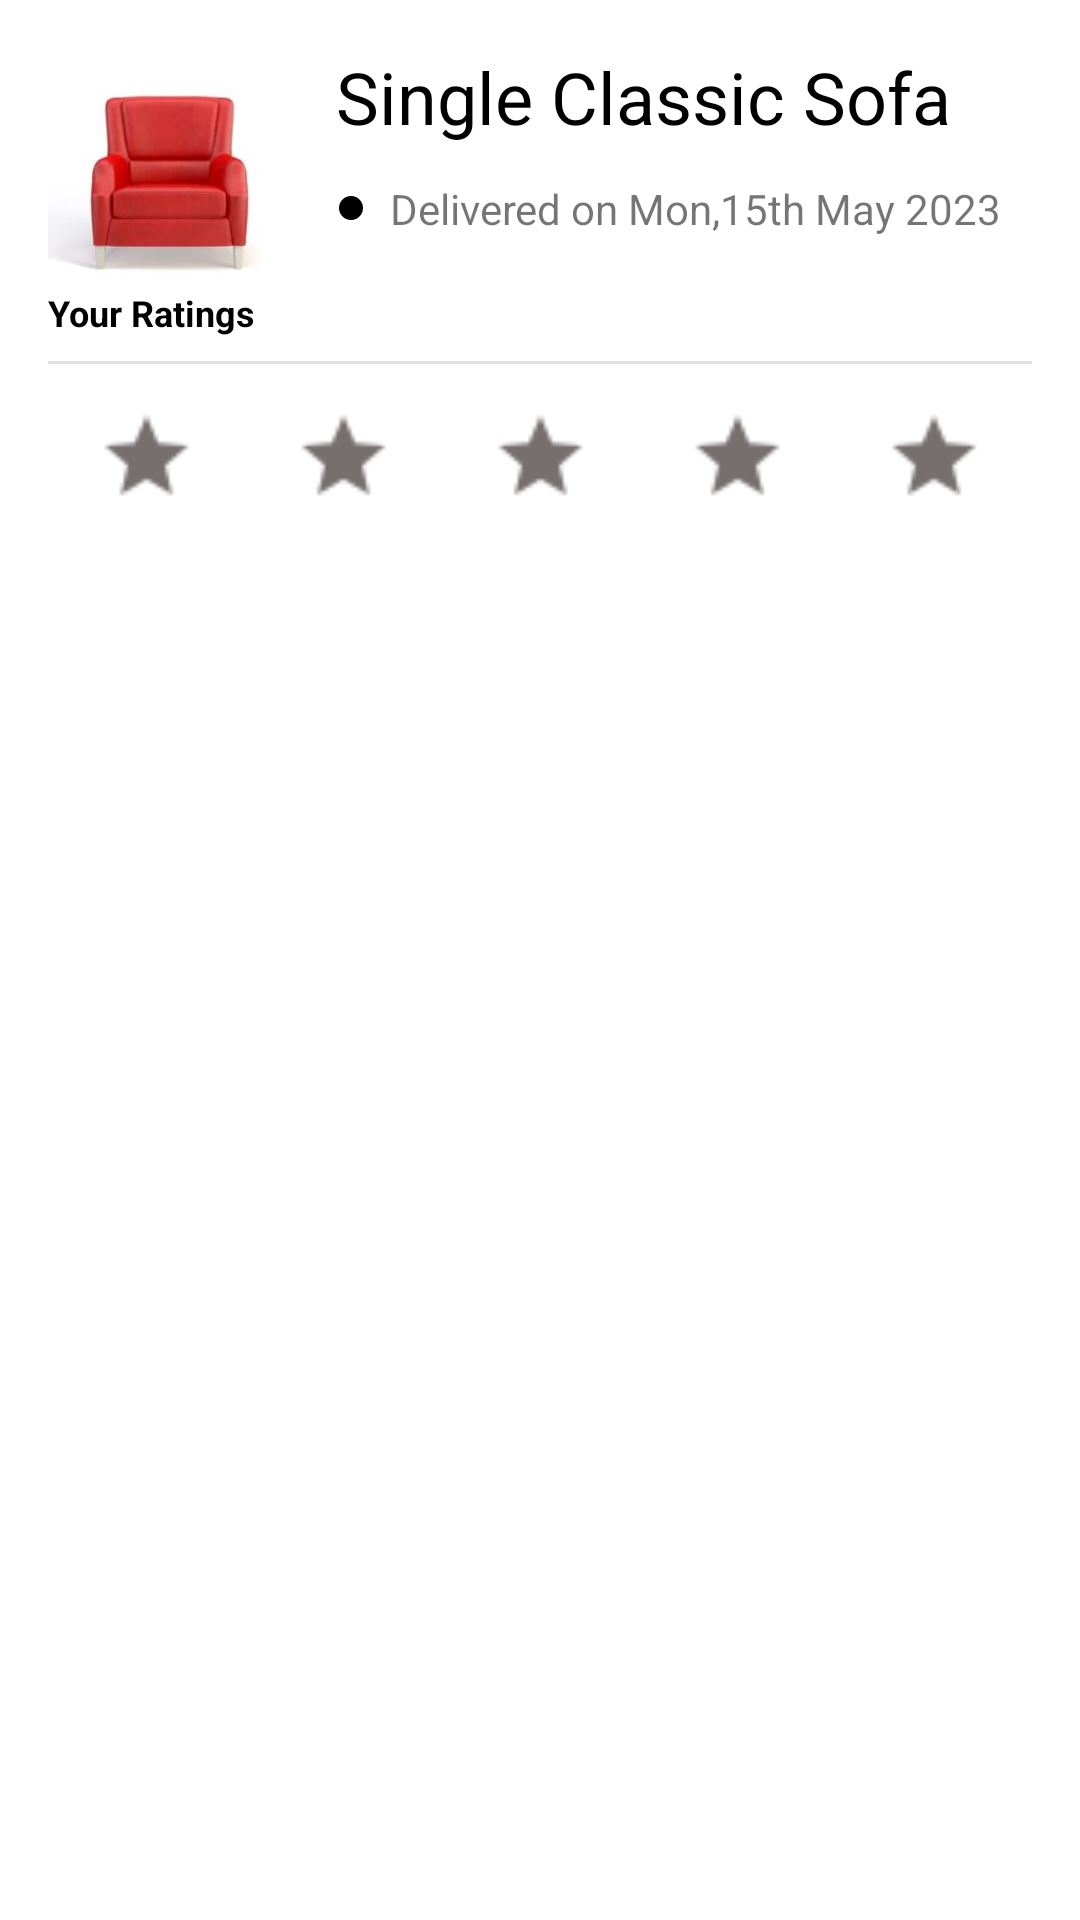

Named icons in this screenshot (1080*1920) and their bounding boxes, (x1, y1, x2, y2):
dot: (339, 196, 363, 220)
star: (105, 417, 188, 495), (302, 417, 385, 495), (499, 417, 582, 495), (696, 417, 779, 495), (892, 417, 976, 495)
